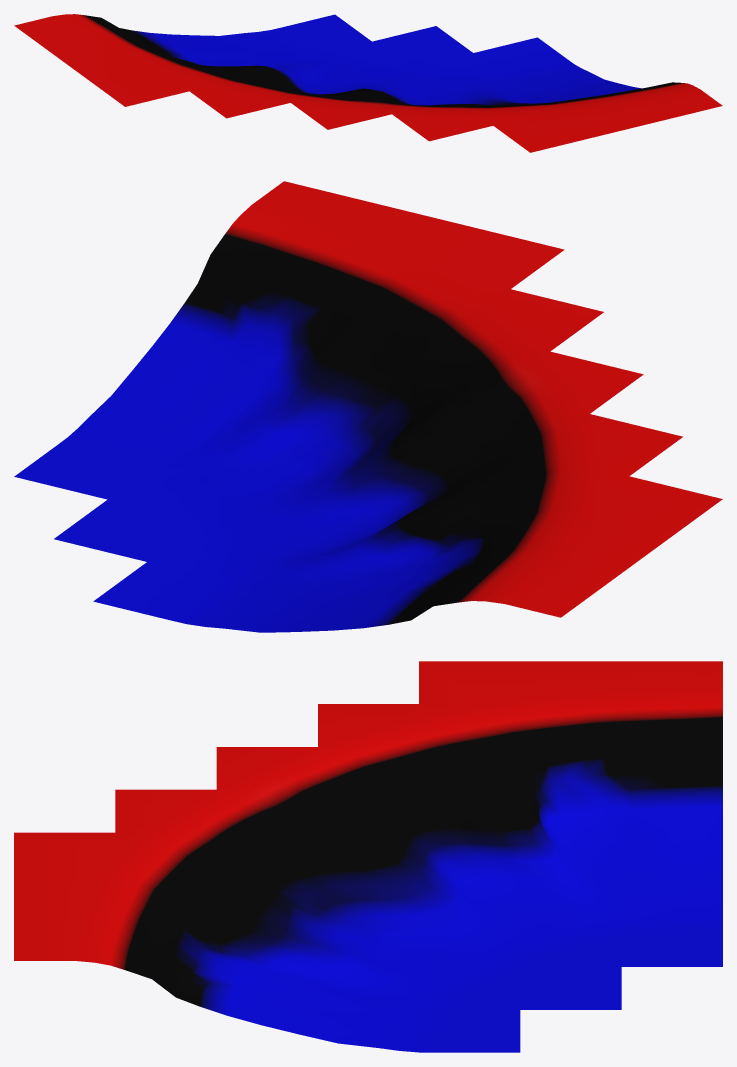
Rendered from SeaShore05A Background.fbx.
3 views of the same model, one above another, from view 1: azimuth 30°, elevation 25°; view 2: azimuth 150°, elevation 25°; view 3: azimuth 270°, elevation 25° (orthographic). The views are drawn at different scales.
Visible parts, largest first — view 1: SeaShore05A Background; view 2: SeaShore05A Background; view 3: SeaShore05A Background.
Boxes of the visible parts, <box> form: SeaShore05A Background: <box>14,14,722,152</box>; SeaShore05A Background: <box>14,181,722,632</box>; SeaShore05A Background: <box>14,661,722,1052</box>.
Bounding box in the file's own units: 7 × 1 × 7.
